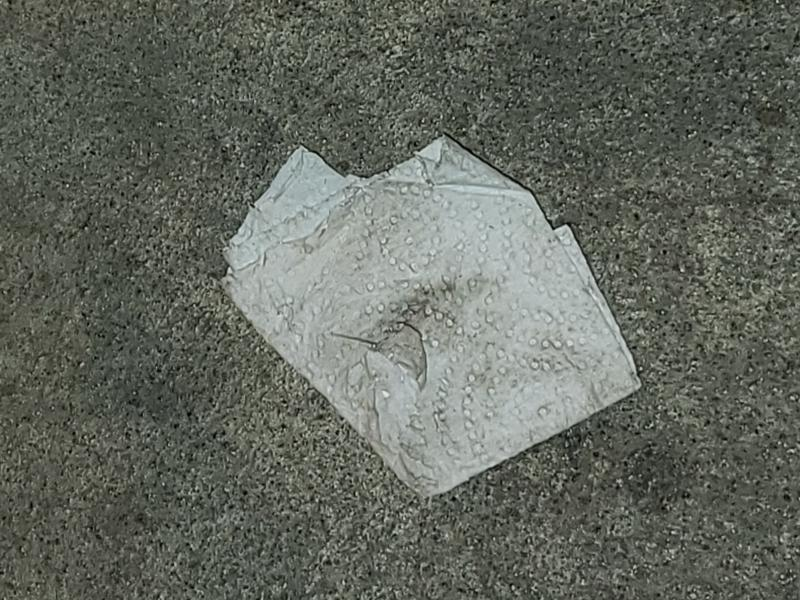papel: (224, 138, 642, 501)
